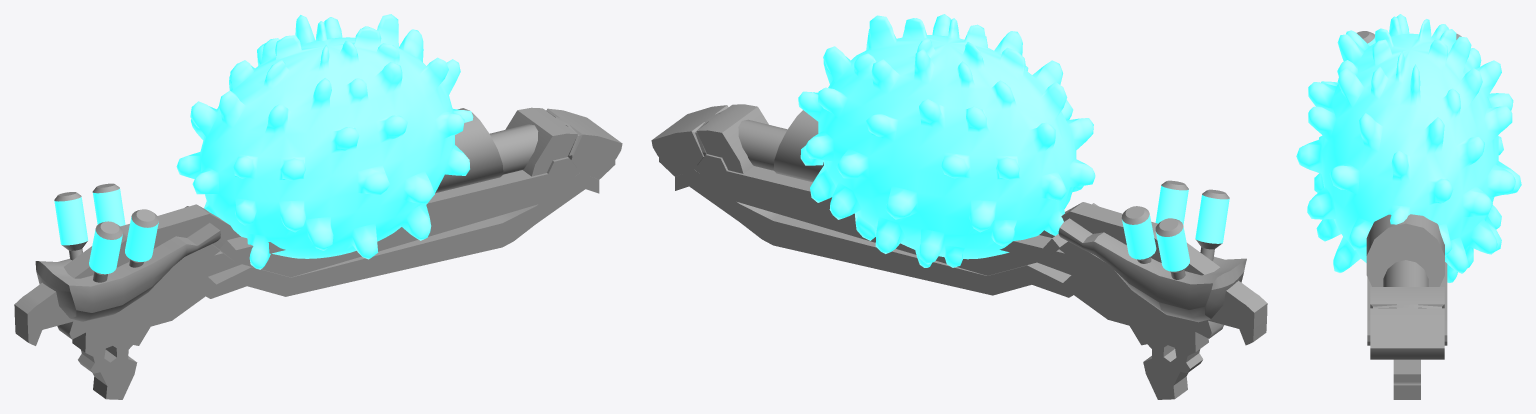
Rendered from WBC gunv1.fbx.
3 renders of one model, left to right at view 1: azimuth 30°, elevation 25°; view 2: azimuth 150°, elevation 25°; view 3: azimuth 270°, elevation 25°, orthographic. The views are drawn at different scales.
Visible parts, largest first — view 1: wbc, polySurface4, polySurface2, polySurface6, pCylinder2, polySurface7, pCylinder4, pCylinder3, pCylinder1; view 2: wbc, polySurface4, polySurface2, polySurface6, pCylinder4, polySurface7, pCylinder2, pCylinder1, pCylinder3; view 3: wbc, polySurface4, polySurface6, polySurface7.
Part boxes in pixels (x1,y1,x2,y2): wbc: (176, 14, 473, 269); polySurface4: (14, 107, 622, 399); polySurface2: (35, 206, 220, 321); polySurface6: (435, 108, 503, 193); pCylinder2: (54, 192, 88, 260); polySurface7: (490, 124, 538, 174); pCylinder4: (89, 221, 122, 282); pCylinder3: (125, 209, 158, 267); pCylinder1: (92, 183, 125, 226); wbc: (798, 14, 1095, 267); polySurface4: (651, 104, 1267, 399); polySurface2: (1058, 203, 1246, 322); polySurface6: (773, 110, 823, 182); pCylinder4: (1195, 189, 1229, 260); polySurface7: (738, 119, 787, 170); pCylinder2: (1155, 218, 1189, 279); pCylinder1: (1121, 206, 1156, 263); pCylinder3: (1155, 180, 1188, 224); wbc: (1296, 14, 1521, 282); polySurface4: (1367, 262, 1447, 399); polySurface6: (1366, 214, 1444, 286); polySurface7: (1383, 260, 1428, 286).
Bounding box in the file's own units: 14.1 × 7.12 × 4.47.
